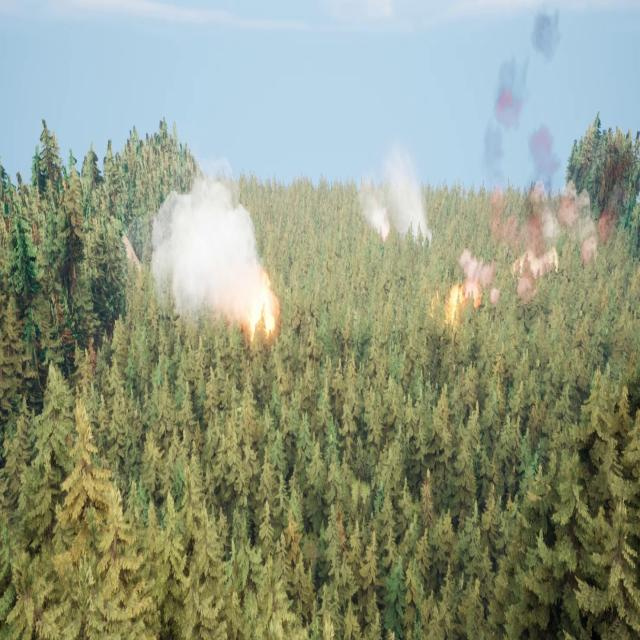fire: (243, 272, 280, 337), (439, 277, 479, 325)
smoke: (463, 4, 599, 303), (144, 174, 268, 325), (354, 152, 437, 255)
